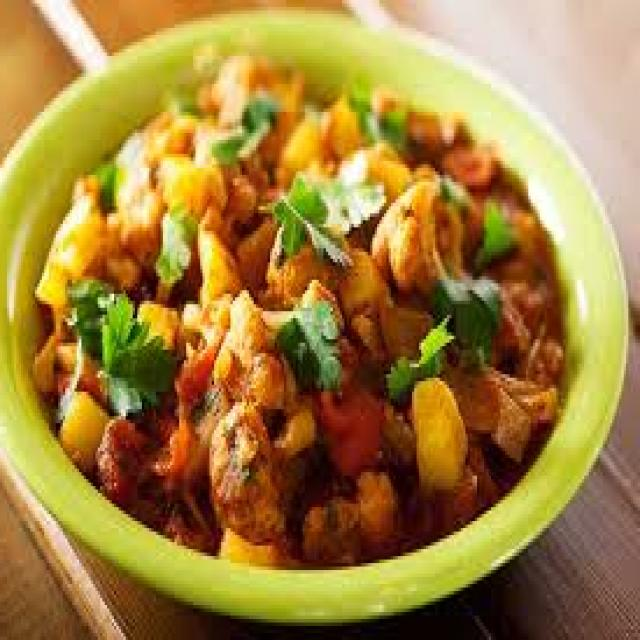Aloo Gobi: (31, 64, 536, 546)
